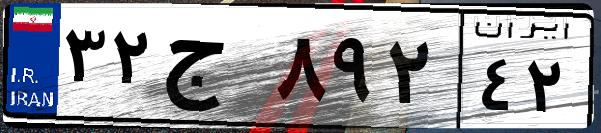2: (385, 28, 445, 110), (525, 38, 570, 115), (110, 28, 158, 98)
3: (57, 26, 110, 100)
4: (475, 38, 525, 113)
8: (270, 28, 330, 110)
9: (330, 28, 385, 110)
ج: (158, 20, 270, 120)
